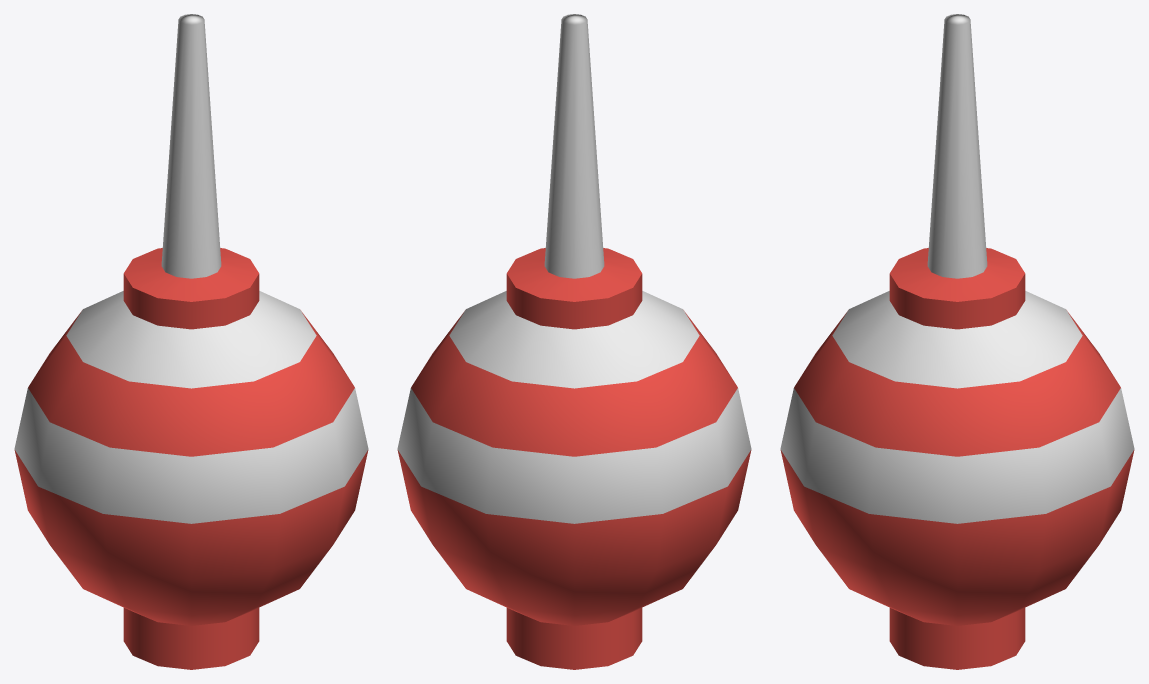
The model's file is fishing_bobber.glb.
3 views of the same model, side by side, from view 1: azimuth 30°, elevation 25°; view 2: azimuth 150°, elevation 25°; view 3: azimuth 270°, elevation 25° (orthographic).
Visible parts, largest first — view 1: bobber_color, bobber; view 2: bobber_color, bobber; view 3: bobber_color, bobber.
Part boxes in pixels (x1=…): bobber_color: x1=14, y1=248, x2=368, y2=669; bobber: x1=14, y1=14, x2=368, y2=523; bobber_color: x1=397, y1=248, x2=751, y2=669; bobber: x1=397, y1=14, x2=751, y2=523; bobber_color: x1=780, y1=248, x2=1134, y2=669; bobber: x1=780, y1=14, x2=1134, y2=523.
Size of the model in its own units: 0.34 by 0.6739 by 0.34.
